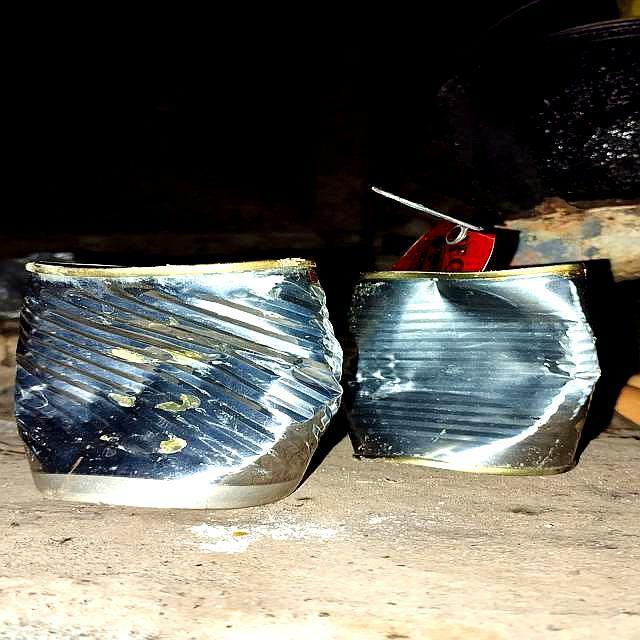Non-biodegradable: (13, 259, 347, 511), (347, 263, 607, 479)
